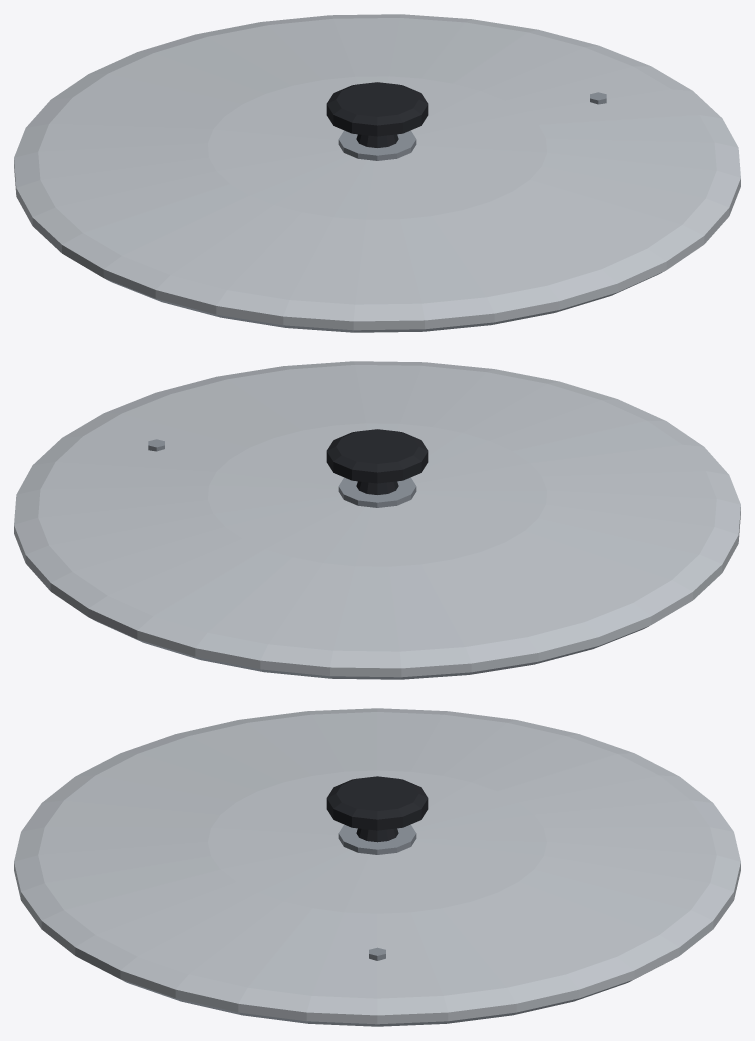
Rendered from Item_Tampa.fbx.
3 views of the same model, one above another, from view 1: azimuth 30°, elevation 25°; view 2: azimuth 150°, elevation 25°; view 3: azimuth 270°, elevation 25° (orthographic).
Parts seen in each view (by area): view 1: Item_Tampa; view 2: Item_Tampa; view 3: Item_Tampa.
Part boxes in pixels (left/top/right/bottom): Item_Tampa: left=14, top=14, right=740, bottom=332; Item_Tampa: left=14, top=361, right=740, bottom=679; Item_Tampa: left=14, top=708, right=740, bottom=1026.
Bounding box in the file's own units: 0.3 × 0.044 × 0.3.
Materials: 1 (1 with a texture image).
